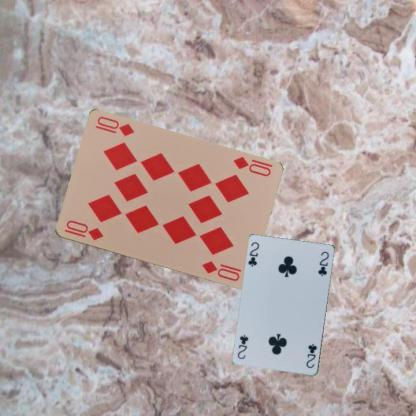10d: (62, 218, 104, 242), (230, 154, 272, 178)
2c: (245, 240, 260, 268), (304, 341, 318, 370)
